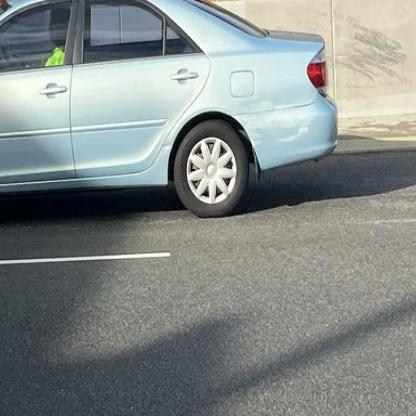Tire: (172, 119, 250, 218)
